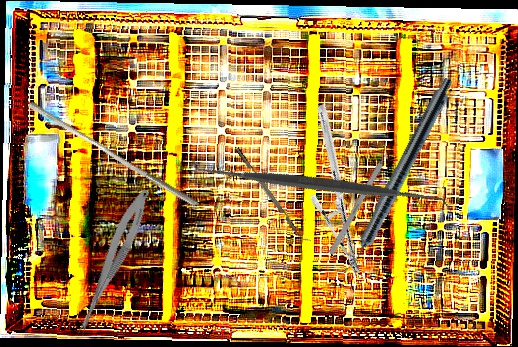Chopper: (235, 143, 311, 247)
Handpiece: (338, 73, 457, 279)
Hook Surgical: (328, 140, 396, 256)
Micro Scissor: (71, 186, 155, 342)
Needle Holder: (254, 102, 424, 278)
Pusher: (23, 100, 204, 208)
Spatula Surgical: (189, 54, 454, 316)
